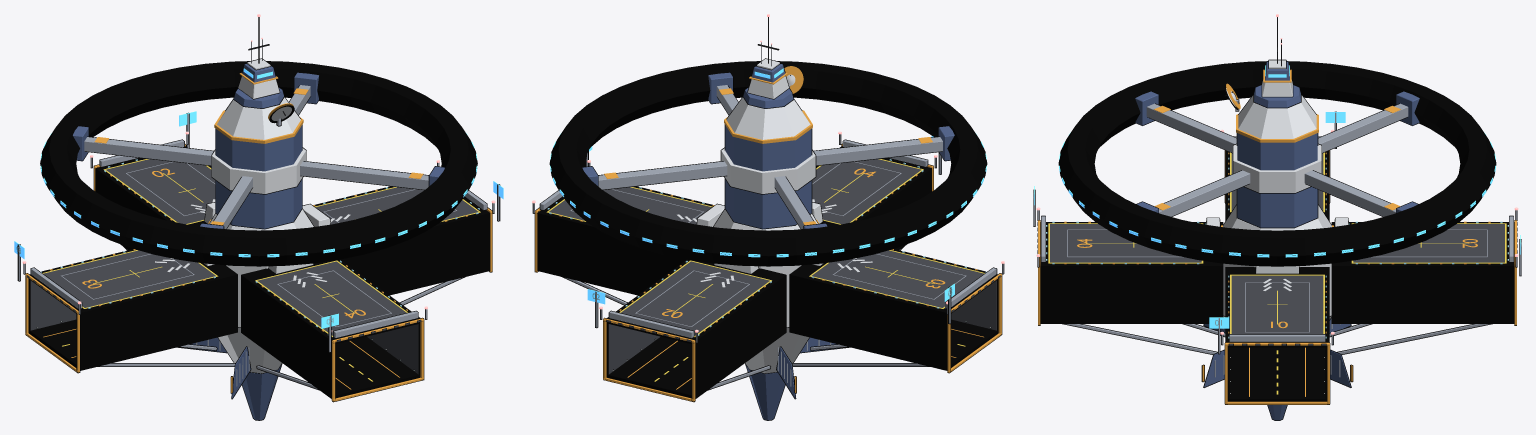
The model's file is Station_Outpost.fbx.
3 renders of one model, left to right at view 1: azimuth 30°, elevation 25°; view 2: azimuth 150°, elevation 25°; view 3: azimuth 270°, elevation 25°, orthographic.
Visible parts, largest first — view 1: Ring_Habitat, Bay3_Shell, Bay4_Shell, Bay1_Shell, Bay4_Pad, Bay3_Pad, Hub_Collar, Bay2_Pad, Bay1_Pad, Hub_CollarBand, Hub_Top, Spoke_3 (+18 smaller); view 2: Ring_Habitat, Bay3_Shell, Bay2_Shell, Bay1_Shell, Bay2_Pad, Bay3_Pad, Hub_Collar, Bay4_Pad, Hub_Top, Bay1_Pad, Hub_CollarBand, Spoke_0 (+19 smaller); view 3: Ring_Habitat, Bay2_Shell, Bay4_Shell, Bay1_Shell, Bay1_Pad, Hub_Collar, Bay4_Pad, Bay2_Pad, Hub_Top, Hub_CollarBand, Spoke_0, Spoke_3 (+17 smaller).
Part boxes in pixels (x1,y1,x2,y2): Ring_Habitat: [40, 61, 477, 266]; Bay3_Shell: [28, 249, 237, 370]; Bay4_Shell: [241, 259, 420, 398]; Bay1_Shell: [314, 186, 490, 295]; Bay4_Pad: [255, 260, 407, 337]; Bay3_Pad: [40, 249, 218, 308]; Hub_Collar: [215, 124, 302, 229]; Bay2_Pad: [103, 159, 215, 224]; Bay1_Pad: [313, 187, 480, 224]; Hub_CollarBand: [211, 147, 306, 194]; Hub_Top: [217, 97, 301, 139]; Spoke_3: [300, 161, 428, 190]; Ring_Habitat: [549, 61, 987, 266]; Bay3_Shell: [789, 249, 998, 370]; Bay2_Shell: [606, 259, 786, 398]; Bay1_Shell: [537, 186, 712, 295]; Bay2_Pad: [619, 260, 771, 337]; Bay3_Pad: [809, 249, 986, 308]; Hub_Collar: [724, 124, 812, 229]; Bay4_Pad: [812, 159, 923, 224]; Hub_Top: [726, 97, 810, 139]; Bay1_Pad: [546, 187, 714, 224]; Hub_CollarBand: [720, 147, 816, 194]; Spoke_0: [598, 161, 727, 190]; Ring_Habitat: [1058, 61, 1496, 266]; Bay2_Shell: [1331, 222, 1514, 323]; Bay4_Shell: [1040, 222, 1223, 323]; Bay1_Shell: [1225, 267, 1329, 401]; Bay1_Pad: [1228, 274, 1326, 338]; Hub_Collar: [1236, 133, 1318, 228]; Bay4_Pad: [1046, 221, 1203, 264]; Bay2_Pad: [1351, 221, 1508, 264]; Hub_Top: [1238, 94, 1316, 138]; Hub_CollarBand: [1233, 143, 1321, 193]; Spoke_0: [1304, 170, 1395, 216]; Spoke_3: [1159, 170, 1250, 216].
Size of the model in its own units: 243 by 222 by 243.
